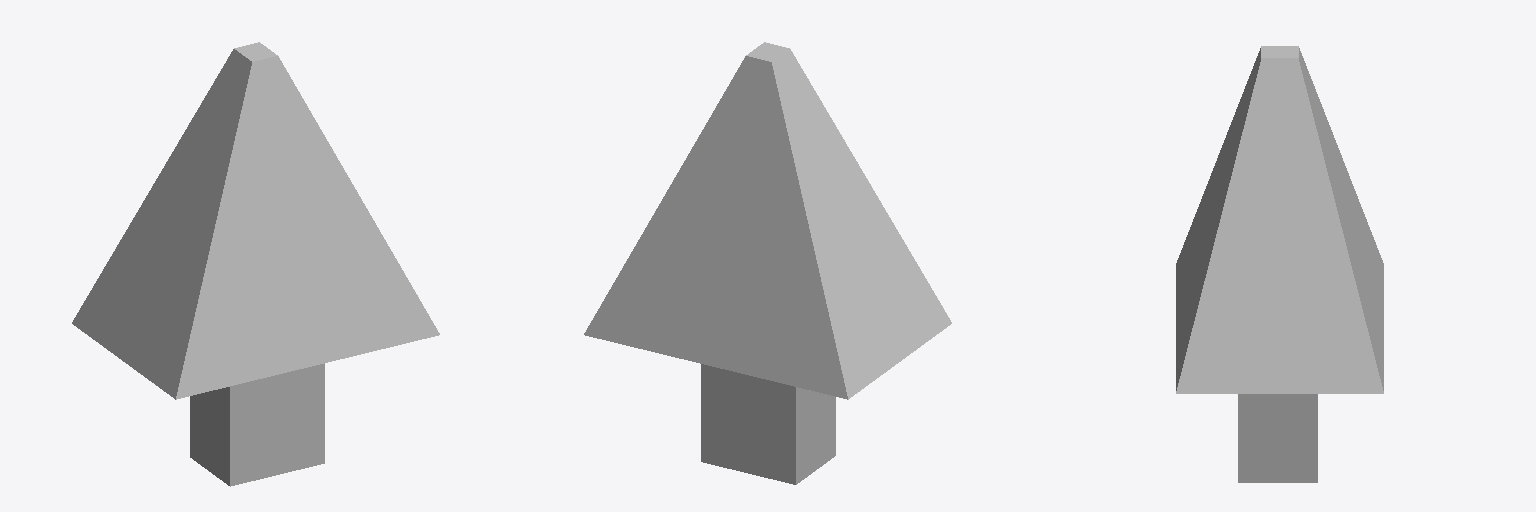
The model's file is hitBoxchampi3.obj.
3 renders of one model, left to right at view 1: azimuth 30°, elevation 25°; view 2: azimuth 150°, elevation 25°; view 3: azimuth 270°, elevation 25°, orthographic.
Visible parts, largest first — view 1: hitBoxChampi3; view 2: hitBoxChampi3; view 3: hitBoxChampi3.
Part boxes in pixels (x1,y1,x2,y2): hitBoxChampi3: (72, 42, 439, 486); hitBoxChampi3: (584, 42, 951, 484); hitBoxChampi3: (1176, 46, 1383, 482).
Bounding box in the file's own units: 0.9366 × 1.38 × 0.6381.